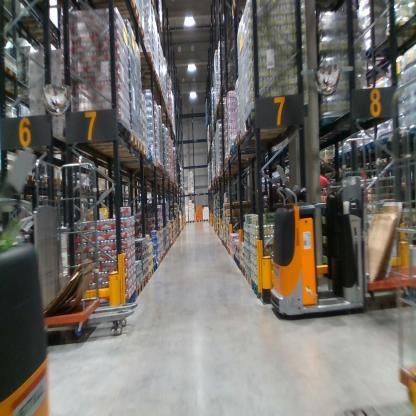pallet: (64, 120, 133, 147), (69, 2, 142, 27), (246, 103, 293, 134), (78, 130, 141, 153), (240, 123, 296, 144), (92, 142, 147, 159), (362, 41, 400, 65), (385, 20, 414, 43), (232, 141, 272, 155), (235, 132, 269, 148), (226, 149, 260, 164), (113, 27, 148, 41), (116, 288, 135, 313), (3, 60, 20, 86), (229, 1, 250, 22), (251, 279, 271, 300), (356, 139, 375, 157), (131, 280, 144, 302), (140, 51, 154, 70), (138, 274, 149, 293), (334, 151, 349, 164), (319, 153, 332, 167), (146, 265, 155, 283), (241, 260, 249, 278), (150, 260, 158, 277), (150, 151, 157, 169), (146, 148, 153, 165), (245, 269, 251, 287), (216, 96, 224, 108), (237, 258, 241, 272), (189, 218, 196, 225), (234, 253, 238, 265), (230, 250, 234, 259), (204, 216, 209, 223), (197, 219, 203, 224), (185, 219, 189, 225)
pallet_truck: (268, 95, 393, 314), (2, 179, 51, 414)
